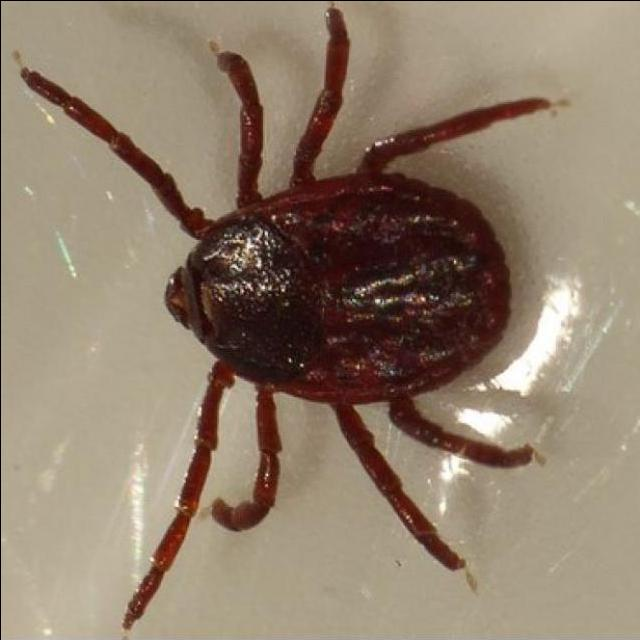Rhipicephalus Sanguineus-F: (20, 8, 553, 640)
